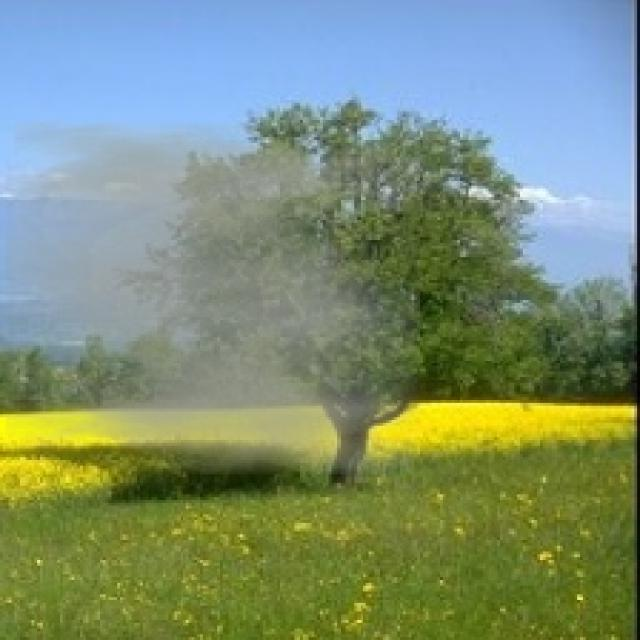smoke: (6, 120, 420, 474)
